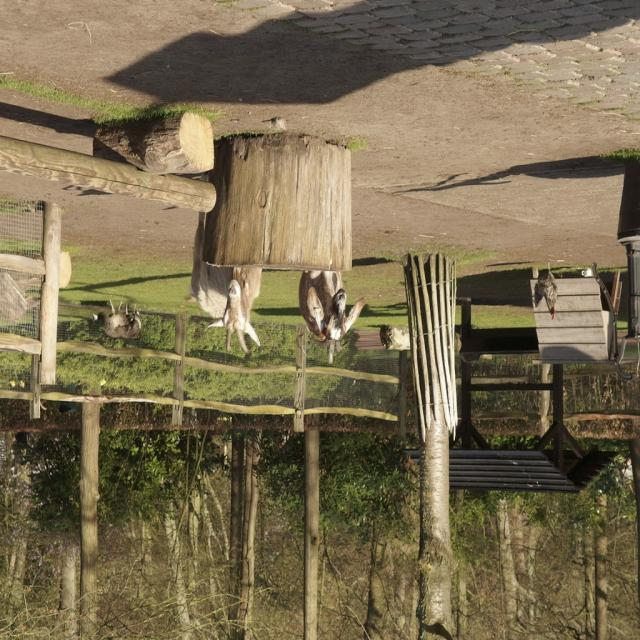Goat: (184, 212, 263, 355), (299, 271, 366, 365), (93, 300, 143, 340), (532, 262, 560, 321), (380, 325, 412, 352)
